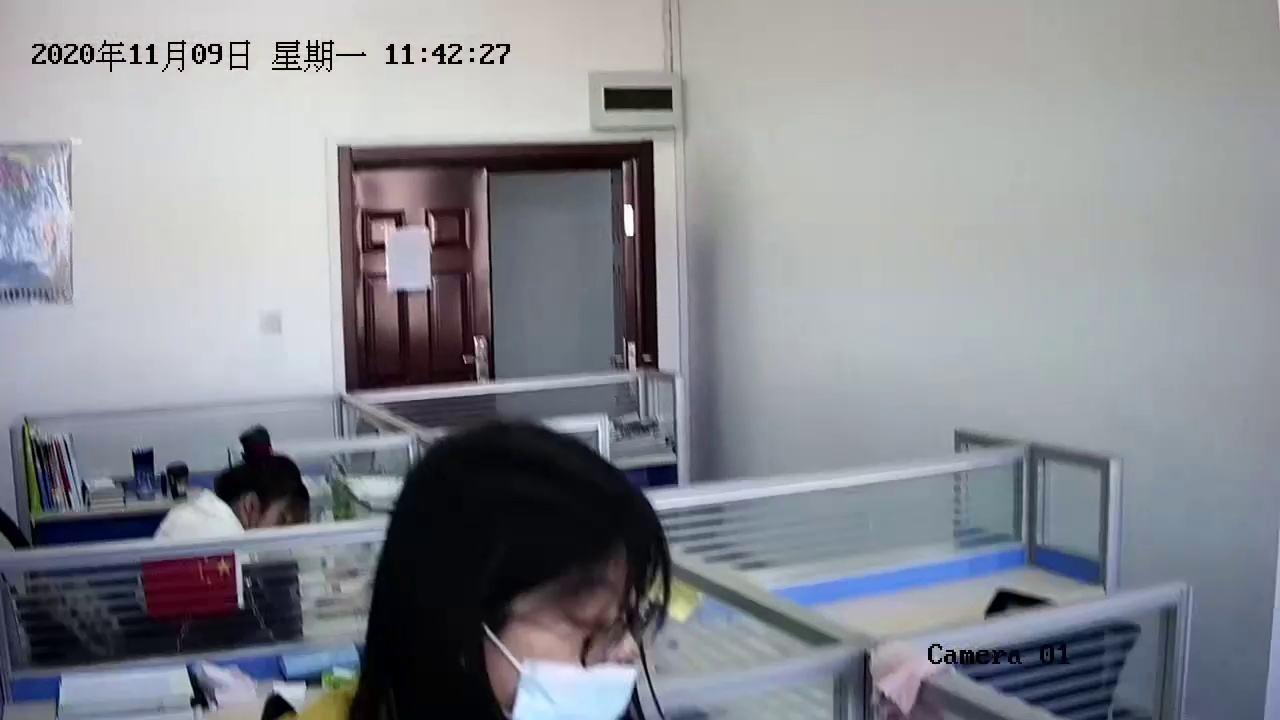mask: (408, 451, 668, 720)
